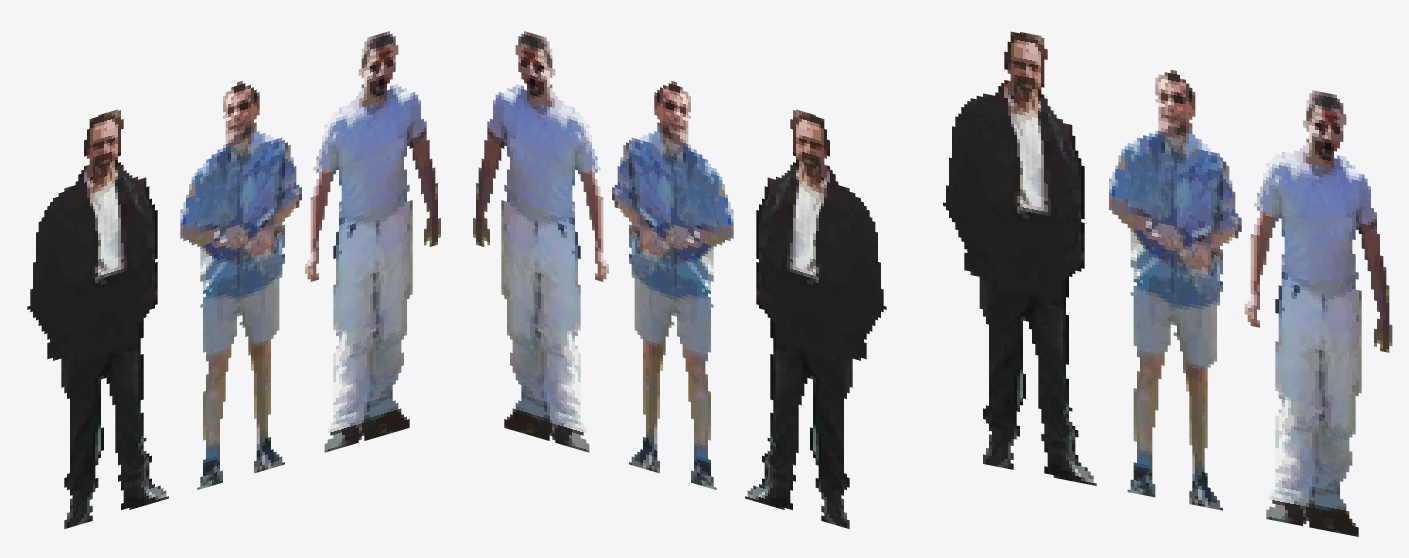
The model's file is stage-dese-p6-46.glb.
The picture shows the model from 3 angles, left to right: view 1: azimuth 30°, elevation 25°; view 2: azimuth 150°, elevation 25°; view 3: azimuth 330°, elevation 25°; orthographic projection. The views are drawn at different scales.
Bounding box in the file's own units: 2 × 1.89 × 1.46e-21.
1 material, 1 textured.
